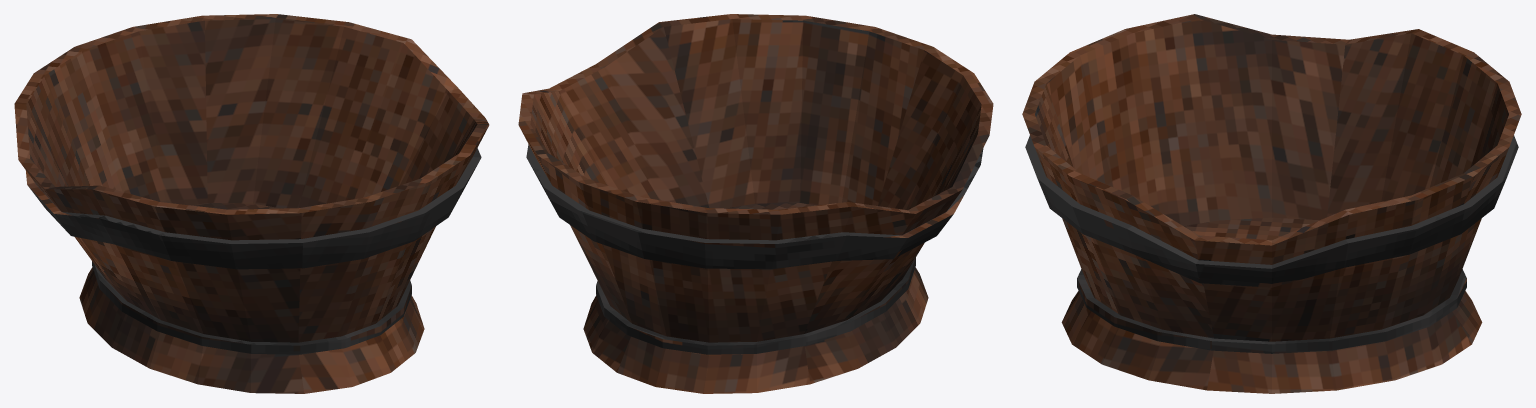
File: tub_wt.fbx
3 views of the same model, side by side, from view 1: azimuth 30°, elevation 25°; view 2: azimuth 150°, elevation 25°; view 3: azimuth 270°, elevation 25° (orthographic). The views are drawn at different scales.
Visible parts, largest first — view 1: Tub; view 2: Tub; view 3: Tub.
Boxes of the visible parts, box(x1,y1,x2,y2) form: Tub: box(14, 14, 489, 393); Tub: box(518, 14, 993, 393); Tub: box(1022, 14, 1521, 393).
Size of the model in its own units: 932 by 428 by 932.
